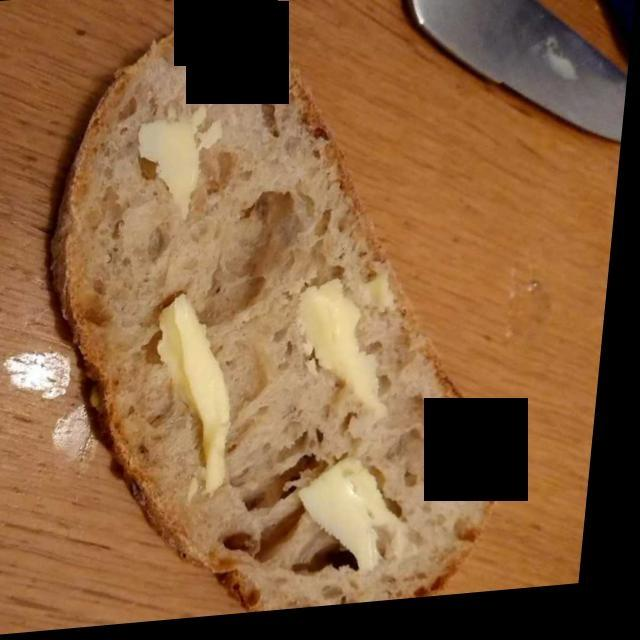bread: (87, 22, 498, 600)
